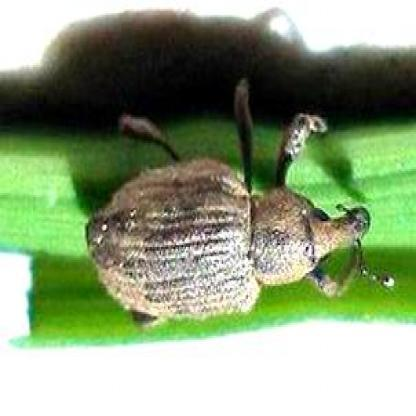rice-bug: (87, 80, 375, 324)
